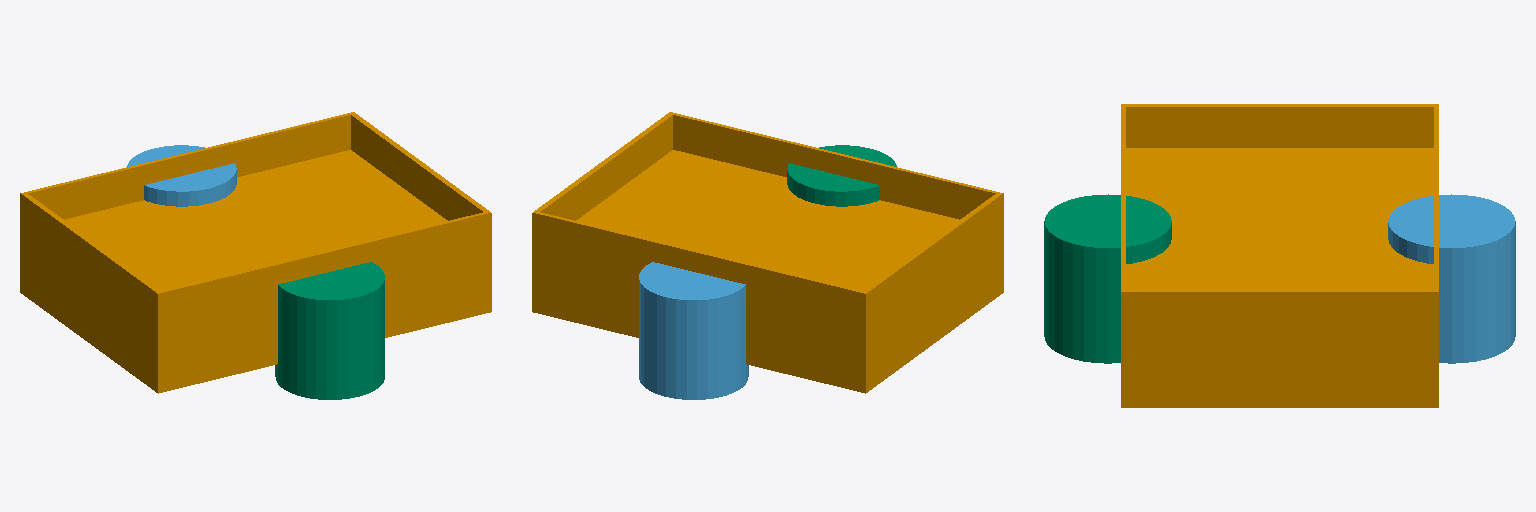
URDF robot description (AGV_S):
<robot name="AGV_S" version="1.0">
  <joint name="LWeel_link_joint" type="continuous">
    <limit lower="0.00000" upper="0.00000" effort="0.00000" velocity="0.00000"/>
    <origin rpy="0.00000 0.00000 0.00000" xyz="0.00000 0.10422 0.05000"/>
    <parent link="Body_link"/>
    <child link="LWeel_link"/>
    <axis xyz="0.00000 0.00000 1.00000"/>
  </joint>
  <joint name="RWeel_link_joint" type="continuous">
    <limit lower="0.00000" upper="0.00000" effort="0.00000" velocity="0.00000"/>
    <origin rpy="0.00000 0.00000 0.00000" xyz="0.00000 -0.10000 0.05000"/>
    <parent link="Body_link"/>
    <child link="RWeel_link"/>
    <axis xyz="0.00000 0.00000 1.00000"/>
  </joint>
  <link name="Body_link">
    <collision name="Body_collision">
      <origin rpy="0.00000 0.00000 0.00000" xyz="-0.00000 0.00000 0.07000"/>
      <geometry>
        <box size="0.35073 0.25052 0.10021"/>
      </geometry>
    </collision>
    <inertial>
      <inertia ixx="0.06067" ixy="0.00000" ixz="0.00000" iyy="0.11088" iyz="0.00000" izz="0.15481"/>
      <origin rpy="0.00000 0.00000 0.00000" xyz="0.00000 0.00000 0.00000"/>
      <mass value="10.00000"/>
    </inertial>
    <visual name="Body">
      <material name="None"/>
      <origin rpy="0.00000 0.00000 0.00000" xyz="0.00000 0.00000 0.00000"/>
      <geometry>
        <mesh filename="../meshes/stl/Cube.stl" scale="1 1 1"/>
      </geometry>
    </visual>
  </link>
  <link name="LWeel_link">
    <collision name="LWeel_collision">
      <origin rpy="0.00000 0.00000 0.00000" xyz="-0.00000 0.03078 -0.00000"/>
      <geometry>
        <cylinder radius="0.05000" length="0.10000"/>
      </geometry>
    </collision>
    <inertial>
      <inertia ixx="0.00042" ixy="0.00000" ixz="0.00000" iyy="0.00083" iyz="0.00000" izz="0.00042"/>
      <origin rpy="0.00000 0.00000 0.00000" xyz="0.00000 -0.10422 -0.05000"/>
      <mass value="0.50000"/>
    </inertial>
    <visual name="LWeel">
      <material name="None"/>
      <origin rpy="0.00000 0.00000 0.00000" xyz="-0.00000 0.03078 -0.00000"/>
      <geometry>
        <cylinder radius="0.05000" length="0.10000"/>
      </geometry>
    </visual>
  </link>
  <link name="RWeel_link">
    <collision name="RWeel_collision">
      <origin rpy="0.00000 0.00000 0.00000" xyz="-0.00000 -0.03500 -0.00000"/>
      <geometry>
        <cylinder radius="0.05000" length="0.10000"/>
      </geometry>
    </collision>
    <inertial>
      <inertia ixx="0.00044" ixy="0.00000" ixz="0.00000" iyy="0.00086" iyz="-0.00000" izz="0.00044"/>
      <origin rpy="0.00000 0.00000 0.00000" xyz="-0.00000 0.10000 -0.05000"/>
      <mass value="0.50000"/>
    </inertial>
    <visual name="RWeel">
      <material name="None"/>
      <origin rpy="0.00000 0.00000 0.00000" xyz="-0.00000 -0.03500 -0.00000"/>
      <geometry>
        <cylinder radius="0.05000" length="0.10000"/>
      </geometry>
    </visual>
  </link>
</robot>

--- What the picture shows (computed from the rendered views, not written in the file) ---
The picture shows the robot from 3 angles, left to right: view 1: azimuth 30°, elevation 25°; view 2: azimuth 150°, elevation 25°; view 3: azimuth 270°, elevation 25°; orthographic projection.
Model AGV_S with 3 links and 2 joints (2 continuous), rooted at Body_link, posed every joint at zero.
Links seen in each view (by area): view 1: Body_link, RWeel_link, LWeel_link; view 2: Body_link, LWeel_link, RWeel_link; view 3: Body_link, LWeel_link, RWeel_link.
Boxes of the visible links, x1,y1,x2,y2 form: Body_link: [20, 112, 491, 393]; RWeel_link: [275, 262, 384, 399]; LWeel_link: [127, 145, 236, 206]; Body_link: [532, 112, 1003, 393]; LWeel_link: [639, 262, 748, 399]; RWeel_link: [787, 145, 896, 206]; Body_link: [1121, 104, 1438, 407]; LWeel_link: [1388, 194, 1515, 363]; RWeel_link: [1044, 194, 1171, 363].
Bounding box of the posed robot: 0.35 × 0.37 × 0.12 m (x, y, z).
1 mesh visuals loaded from 1 distinct referenced files (1 binary STL).
